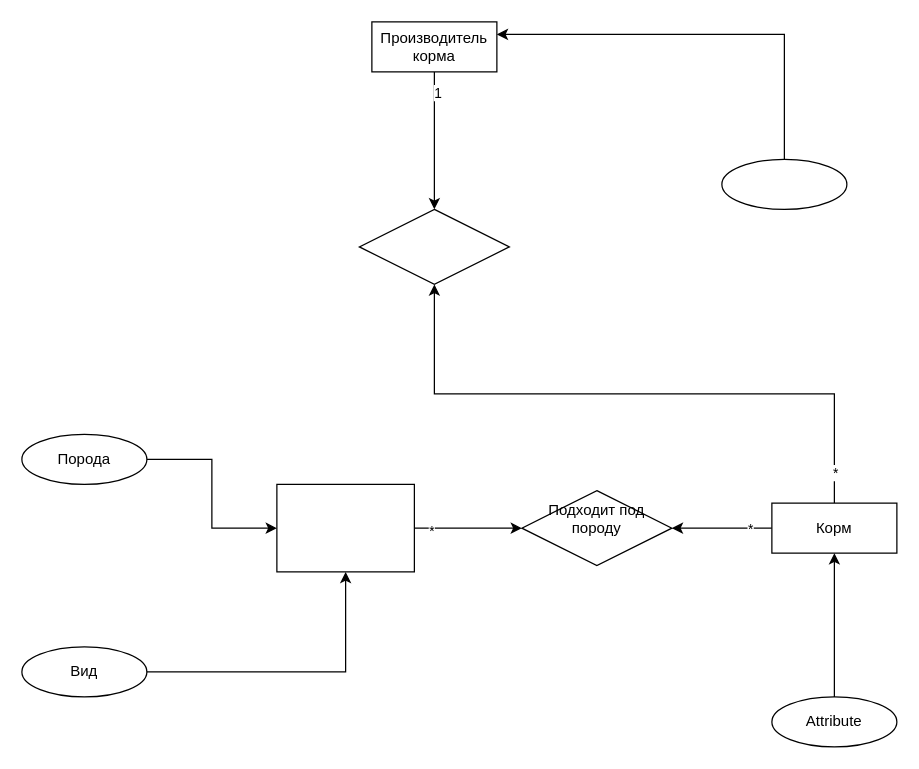
This 919x769 diagram has some shape labels left out. The shapes that lost their labels are listed below. From the top down, each one's box as (x1, y1, x2, y2) in pixels, then its label:
(721, 158, 847, 209): Производители
(358, 208, 509, 284): Производит
(276, 483, 414, 572): Животные
